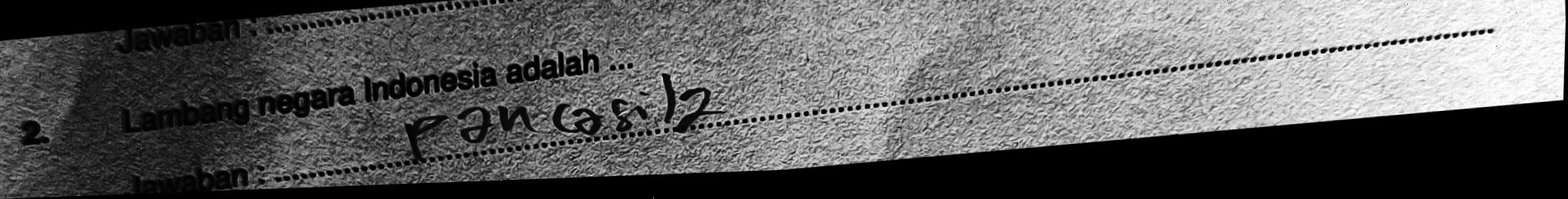jawaban: (393, 71, 740, 162)
